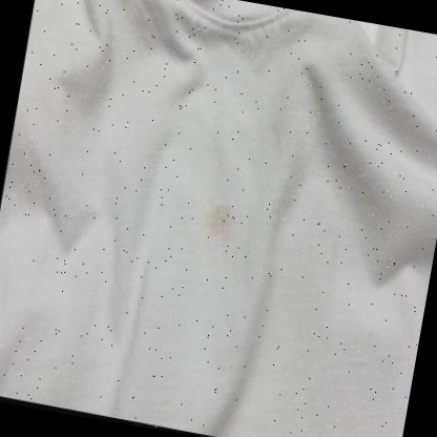coffee: (203, 202, 237, 240)
